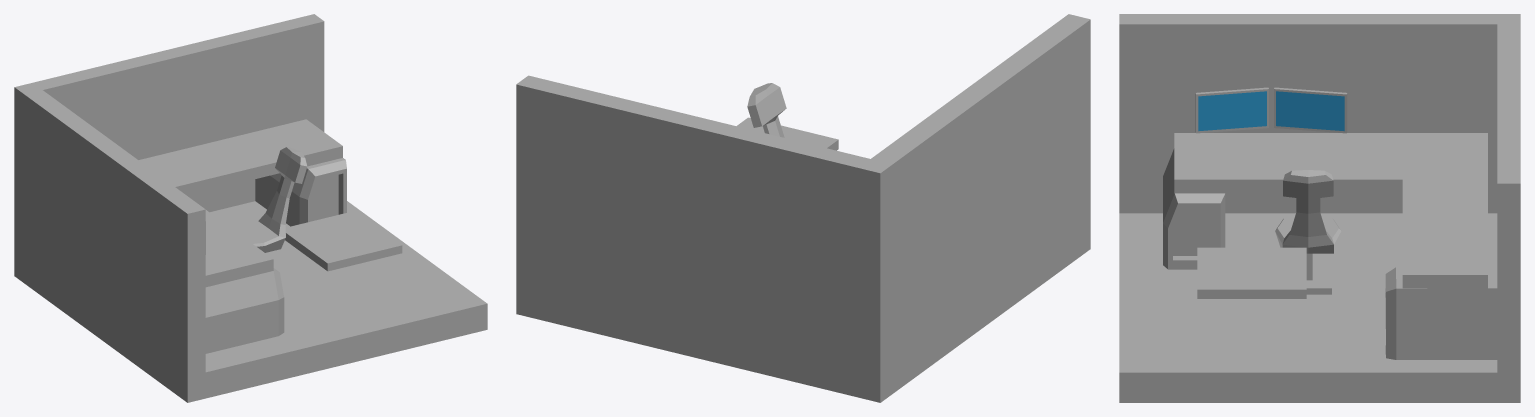
File: cyberpunk room.fbx
3 views of the same model, side by side, from view 1: azimuth 30°, elevation 25°; view 2: azimuth 150°, elevation 25°; view 3: azimuth 270°, elevation 25° (orthographic). The views are drawn at different scales.
Visible parts, largest first — view 1: Cube, Table1, Table1.002, Table1.001, Table1.003, Cube.002; view 2: Cube, Cube.002, Table1.001; view 3: Cube, Table1, Table1.003, Table1.001, Cube.002, Table1.002, Monitor, Monitor.001.
Part boxes in pixels (x1,y1,x2,y2): Cube: [14, 14, 487, 402]; Table1: [139, 119, 342, 287]; Table1.002: [205, 268, 284, 353]; Table1.001: [285, 211, 402, 271]; Table1.003: [255, 158, 346, 226]; Cube.002: [229, 147, 307, 252]; Cube: [516, 14, 1090, 402]; Cube.002: [747, 83, 786, 137]; Table1.001: [736, 117, 838, 150]; Cube: [1119, 14, 1520, 402]; Table1: [1174, 133, 1487, 288]; Table1.003: [1385, 267, 1497, 359]; Table1.001: [1197, 247, 1306, 298]; Cube.002: [1275, 170, 1341, 294]; Table1.002: [1163, 148, 1225, 269]; Monitor: [1195, 87, 1268, 133]; Monitor.001: [1274, 87, 1347, 133].
Size of the model in its own units: 875 by 527 by 875.
Materials: 1 (1 with a texture image).
